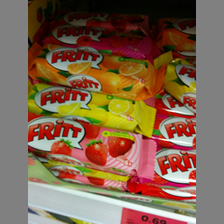candy: (28, 112, 157, 178), (30, 80, 161, 135), (30, 43, 163, 97)
